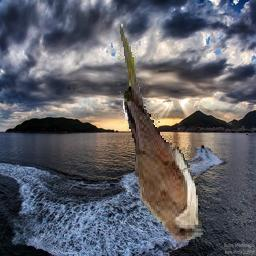Cuckoo: (119, 22, 206, 243)
